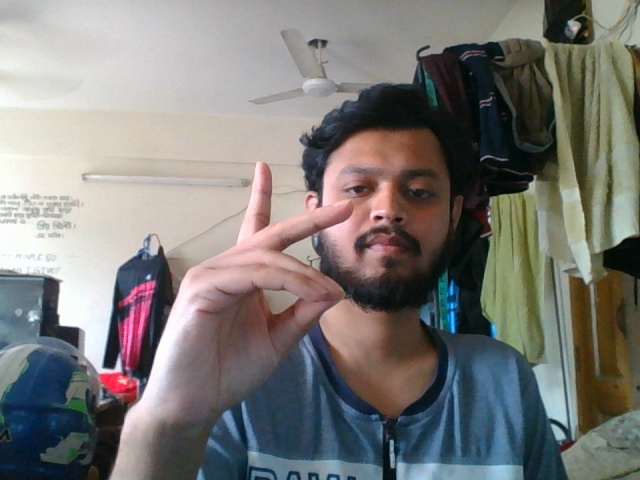na: (153, 153, 361, 467)
